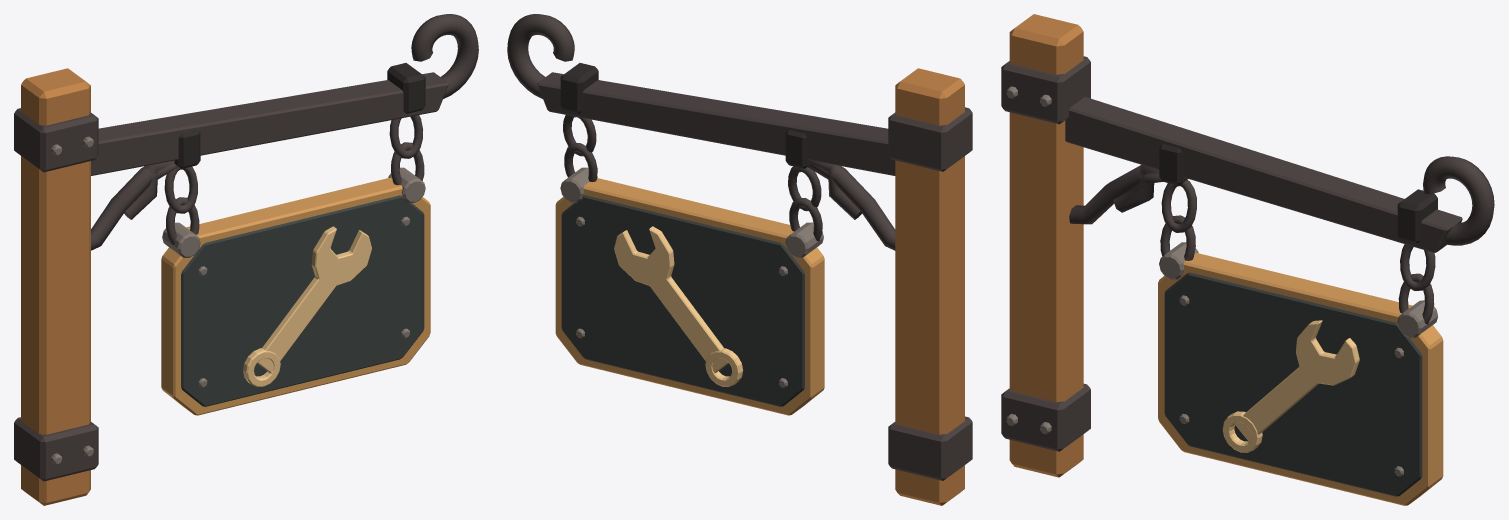
The model's file is wsc-prop-024-shop-wrench-sign.glb.
The picture shows the model from 3 angles, left to right: view 1: azimuth 30°, elevation 25°; view 2: azimuth 150°, elevation 25°; view 3: azimuth 330°, elevation 25°; orthographic projection. The views are drawn at different scales.
Parts seen in each view (by area): view 1: sign, iron, wood3, brass, emb, nail, iron_dark; view 2: sign, iron, wood3, brass, emb, iron_dark, nail; view 3: sign, iron, wood3, brass, emb, nail, iron_dark.
Part boxes in pixels (x1,y1,x2,y2): sign: (181,195,424,406); iron: (14,14,478,481); wood3: (21,68,90,505); brass: (161,177,430,415); emb: (243,226,371,386); nail: (51,136,425,464); iron_dark: (174,63,425,168); sign: (561,195,804,406); iron: (507,14,972,480); wood3: (895,68,964,505); brass: (555,178,824,415); emb: (614,226,743,386); iron_dark: (560,63,811,168); nail: (560,167,823,387); sign: (1164,272,1422,496); iron: (1001,56,1494,451); wood3: (1009,14,1083,477); brass: (1158,253,1443,505); emb: (1222,320,1359,452); nail: (1006,86,1437,476); iron_dark: (1159,144,1437,243).
Size of the model in its own units: 1.48 by 1.3 by 0.1895.
